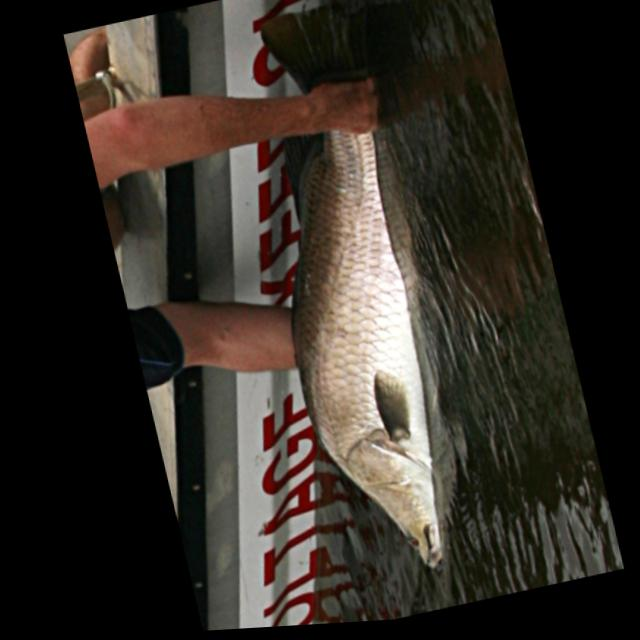Seabass: (211, 0, 496, 596)
